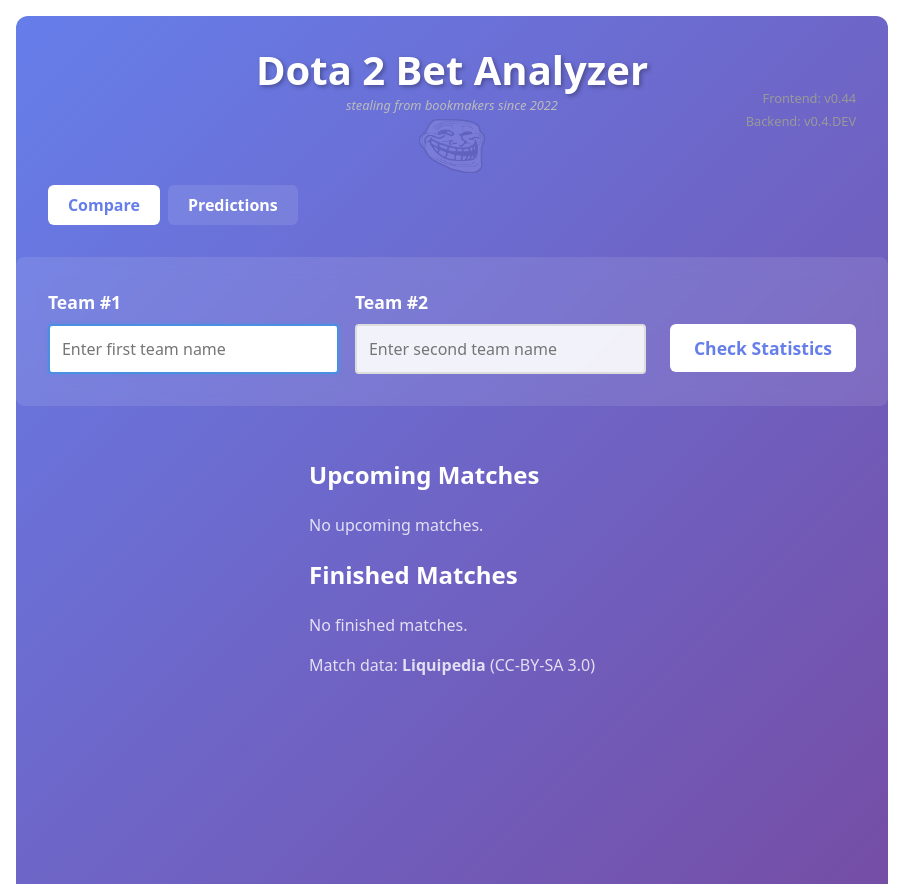
App Component › Input Validation › should show error when only team1 is filled
This screenshot has width=905, height=884.
Type "Team A" into the field with placeholder "Enter first team name".
click(193, 348); type("Team A")  # box [48,323,339,373]
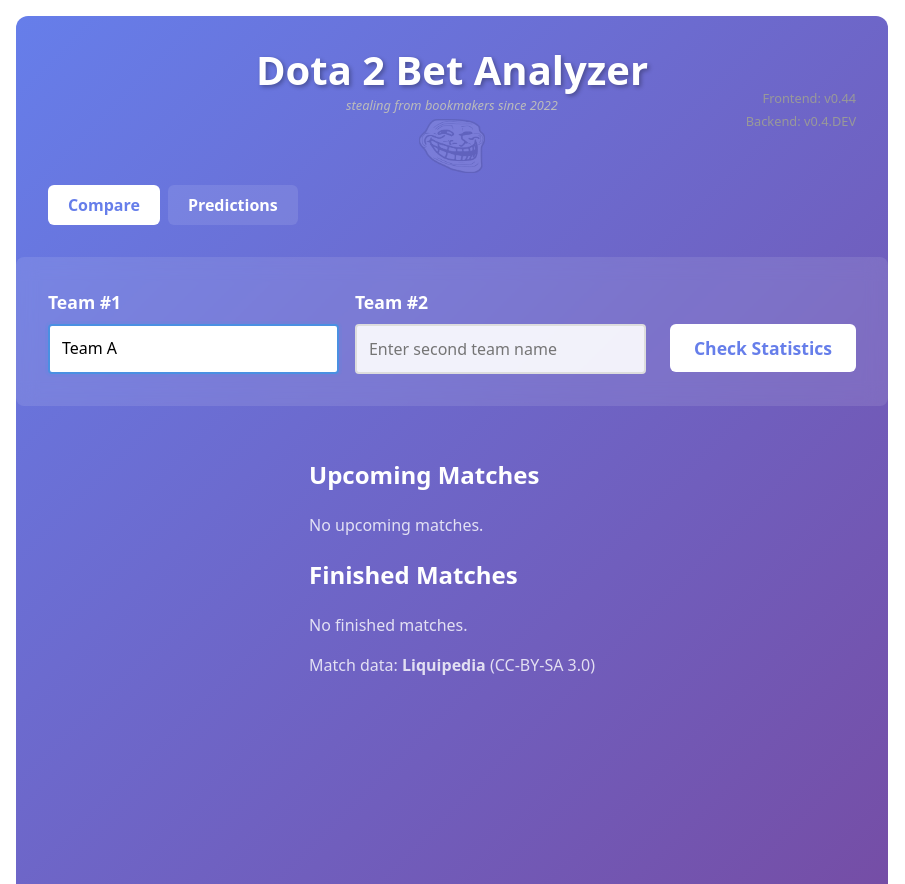
Click the button "Check Statistics".
click(763, 347)  # box [670,323,856,371]
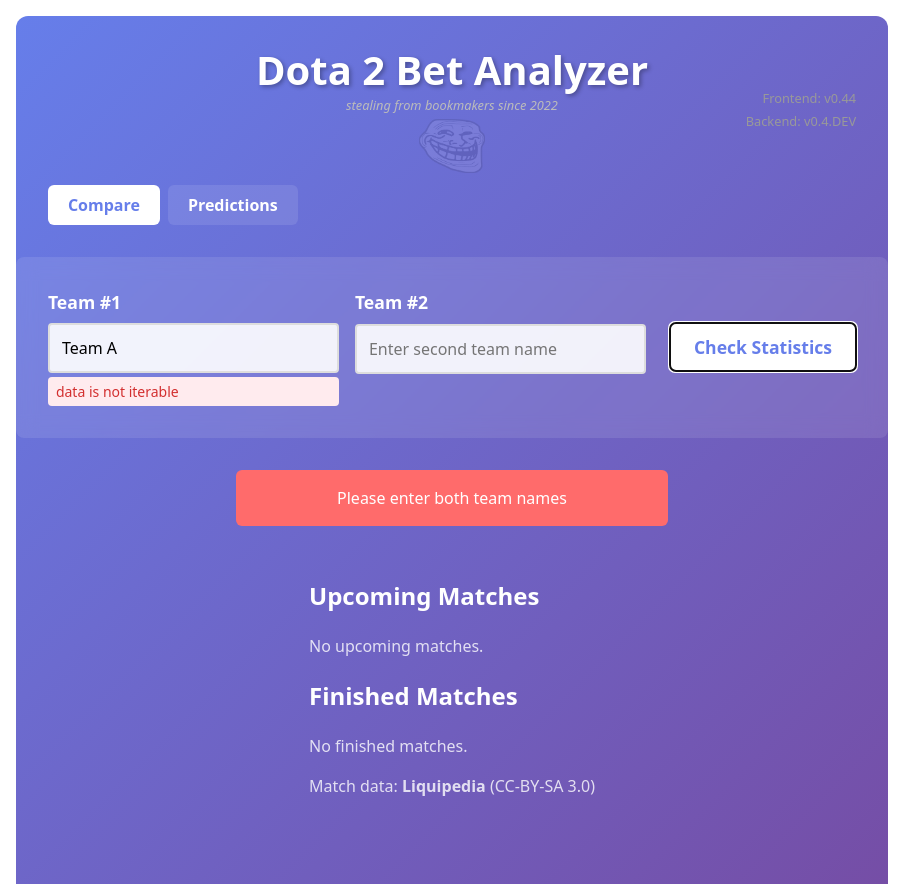
expect the text "Please enter both team names" is shown: met, box [236,470,668,526]
